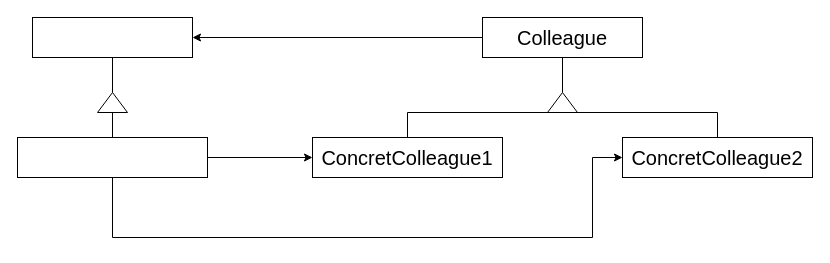
The diagram is 830 pixels wide and 263 high, and some of its shapes have lost their labels. The centre of each missing label's shape, as x and y in pixels:
ConcretMediator: [112,157]
Mediator: [112,37]
